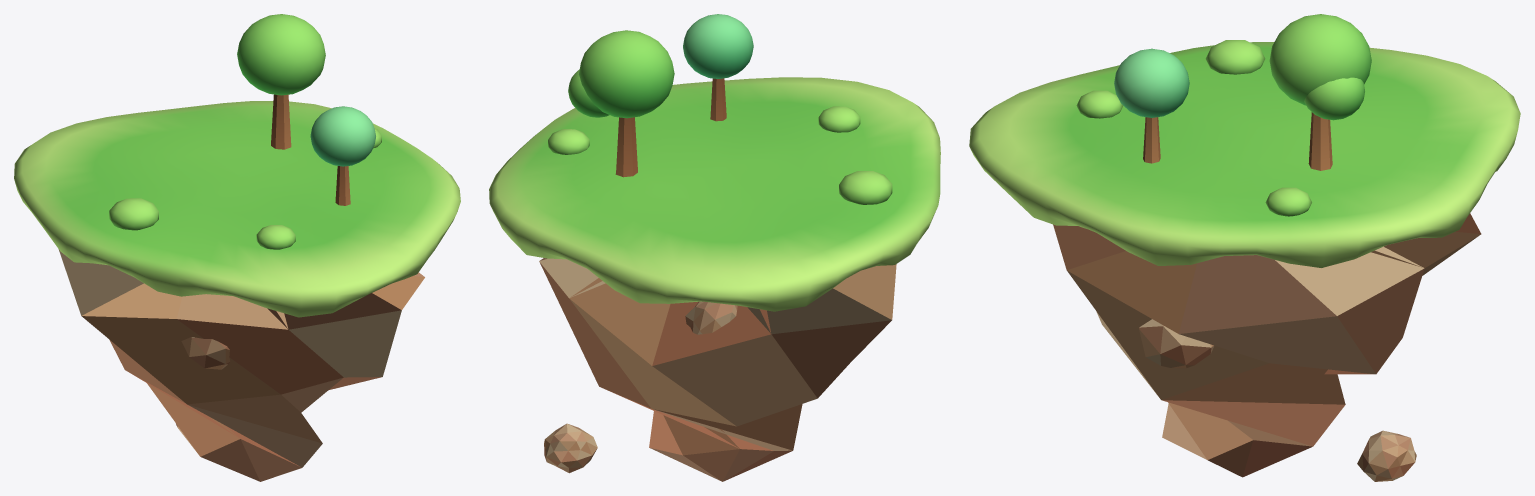
Rendered from island_c.glb.
3 views of the same model, side by side, from view 1: azimuth 30°, elevation 25°; view 2: azimuth 150°, elevation 25°; view 3: azimuth 270°, elevation 25° (orthographic). The views are drawn at different scales.
Visible parts, largest first — view 1: Island; view 2: Island; view 3: Island.
Boxes of the visible parts, bbox=[...] form: Island: bbox=[14, 14, 460, 481]; Island: bbox=[489, 14, 940, 481]; Island: bbox=[969, 14, 1520, 481].
Size of the model in its own units: 19.7 by 22.3 by 22.78.
